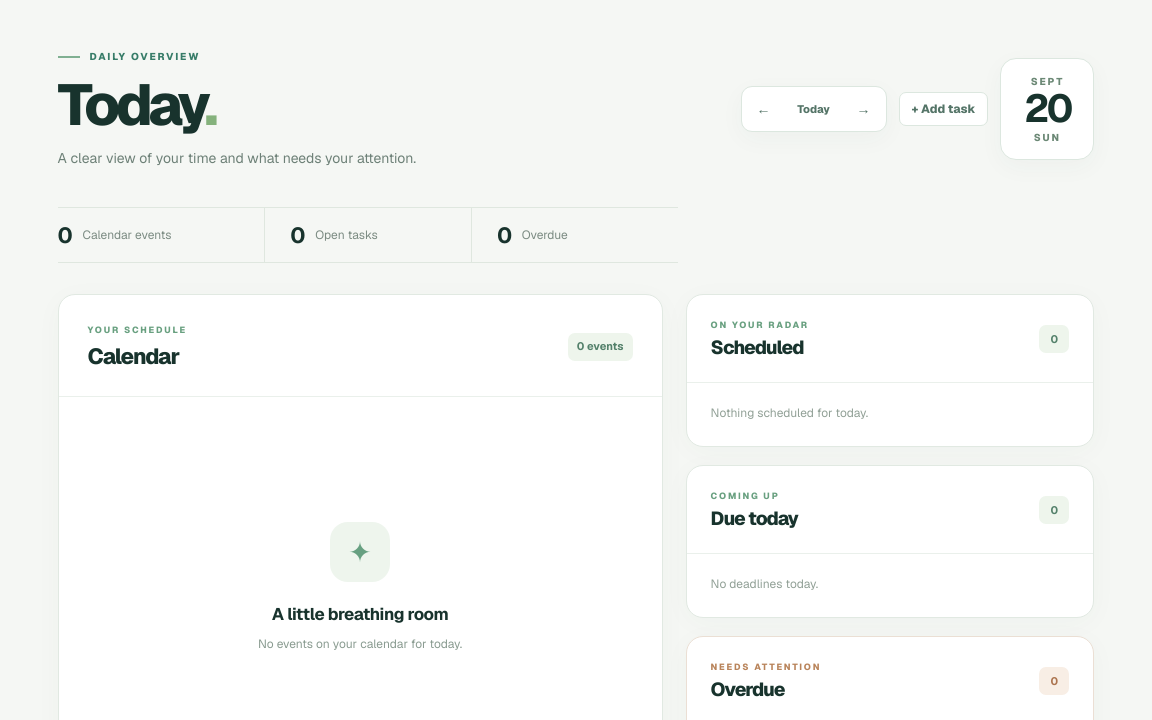
Scenario: Task capture › preserves entered values and offers retry when the save fails
Click the button "+ Add task".
click(944, 109)  # box 899,92 -> 988,126
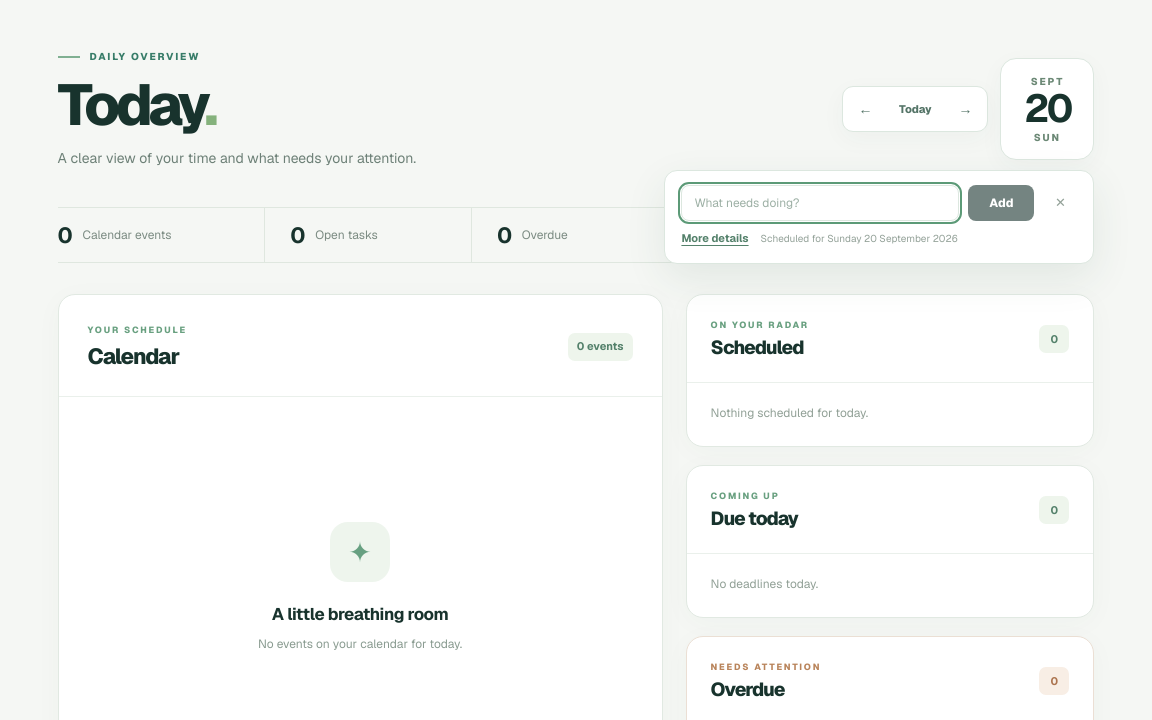
Type "Failing task" into the field with placeholder "What needs doing?".
click(820, 203); type("Failing task")  # box 681,185 -> 959,221
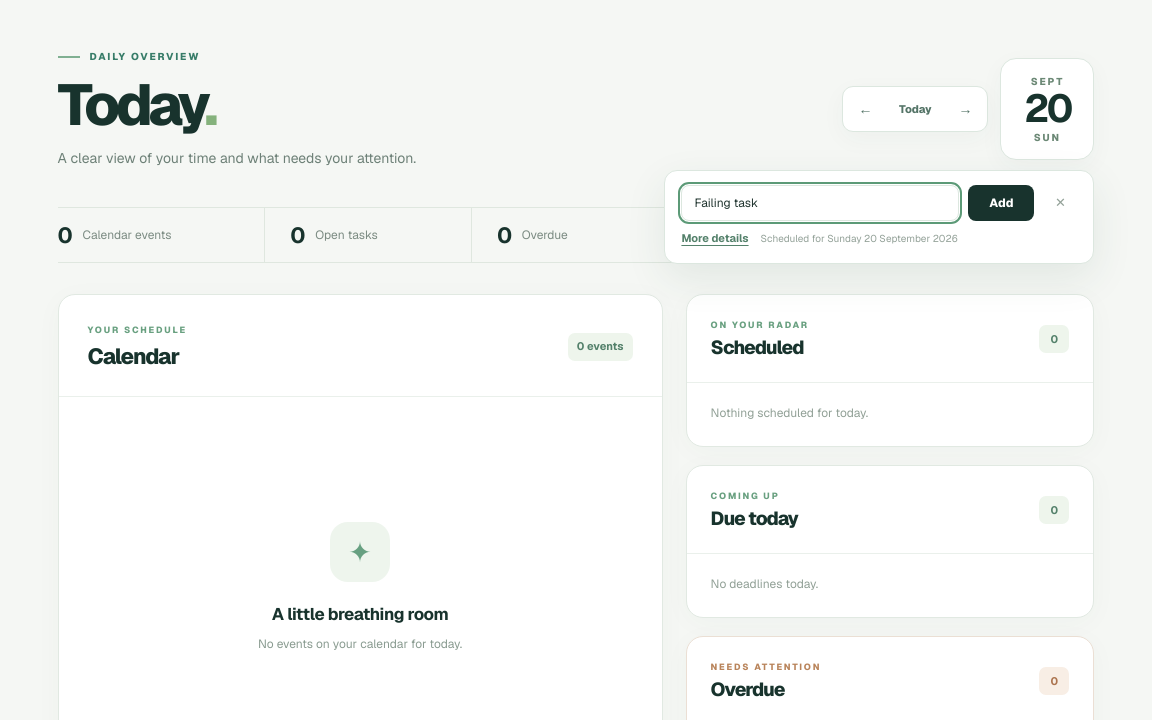
Click the button "Add".
click(1001, 203)  # box 968,185 -> 1034,221
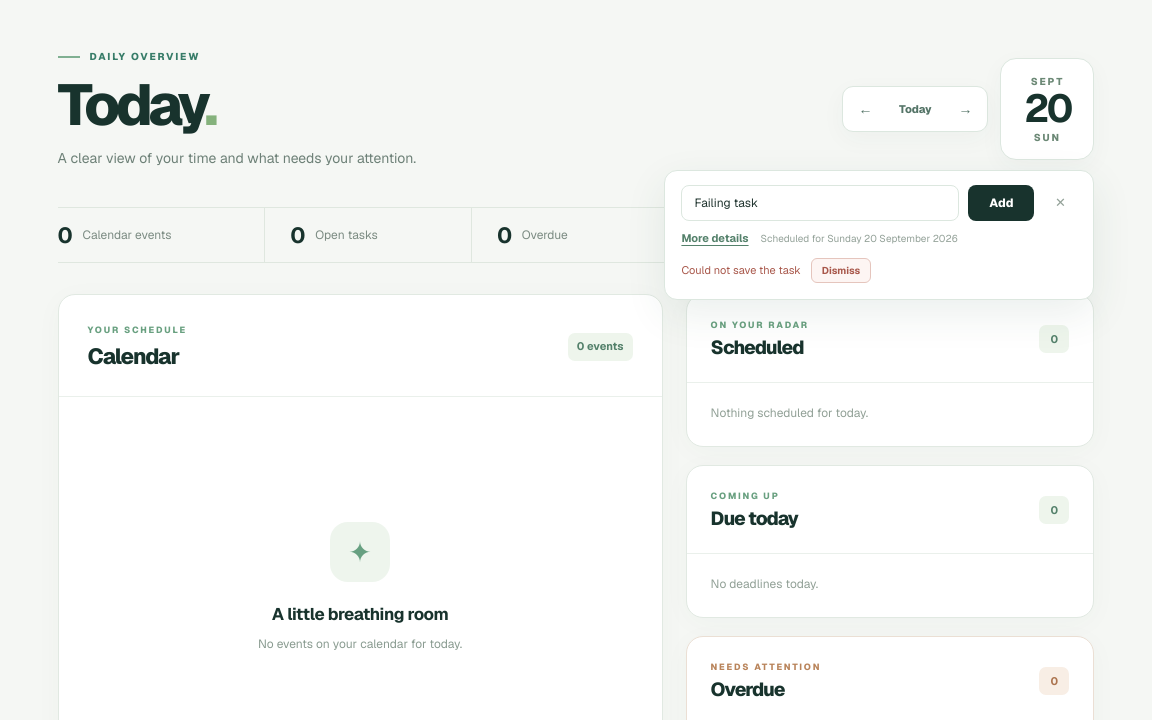
Check: the button "Add" is enabled, box 968,185 -> 1034,221
Check: the text "Could not save the task" is shown, box 681,263 -> 801,277
